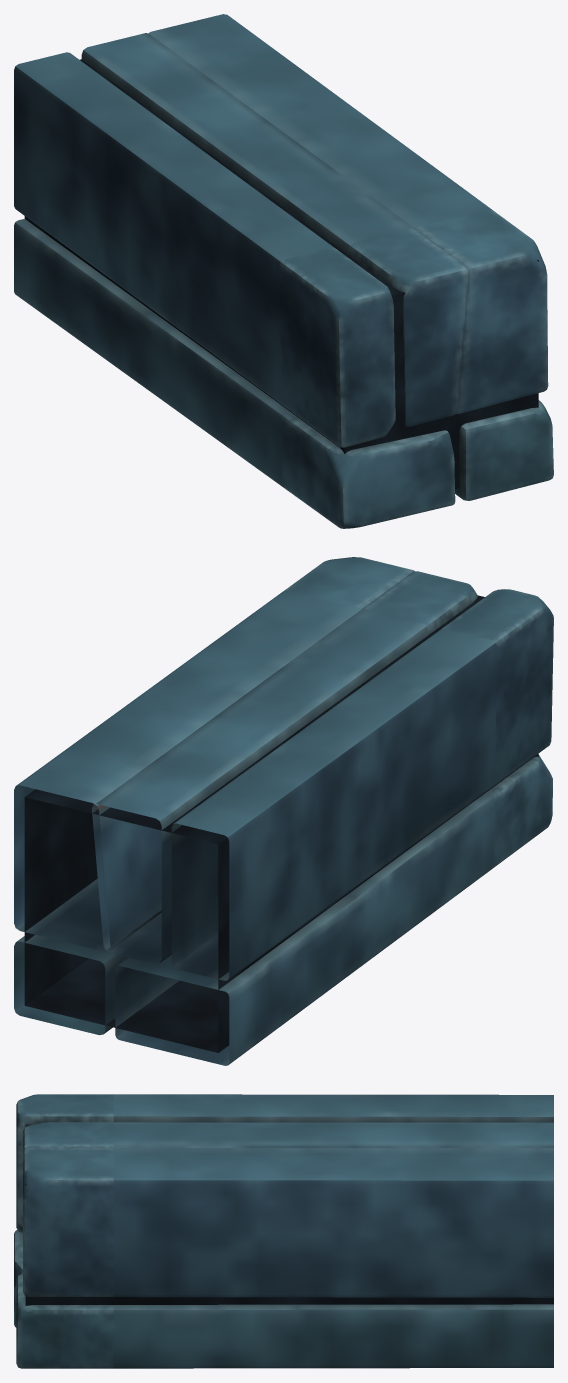
Rendered from ENV_Stone_C.fbx.
3 renders of one model, top to bottom at view 1: azimuth 30°, elevation 25°; view 2: azimuth 150°, elevation 25°; view 3: azimuth 270°, elevation 25°, orthographic. The views are drawn at different scales.
Visible parts, largest first — view 1: ENV_Stone_C; view 2: ENV_Stone_C; view 3: ENV_Stone_C.
Boxes of the visible parts, x1,y1,x2,y2 form: ENV_Stone_C: (14, 14, 553, 528); ENV_Stone_C: (14, 557, 553, 1065); ENV_Stone_C: (14, 1094, 553, 1368).
Bounding box in the file's own units: 0.9695 × 0.9829 × 2.51.
